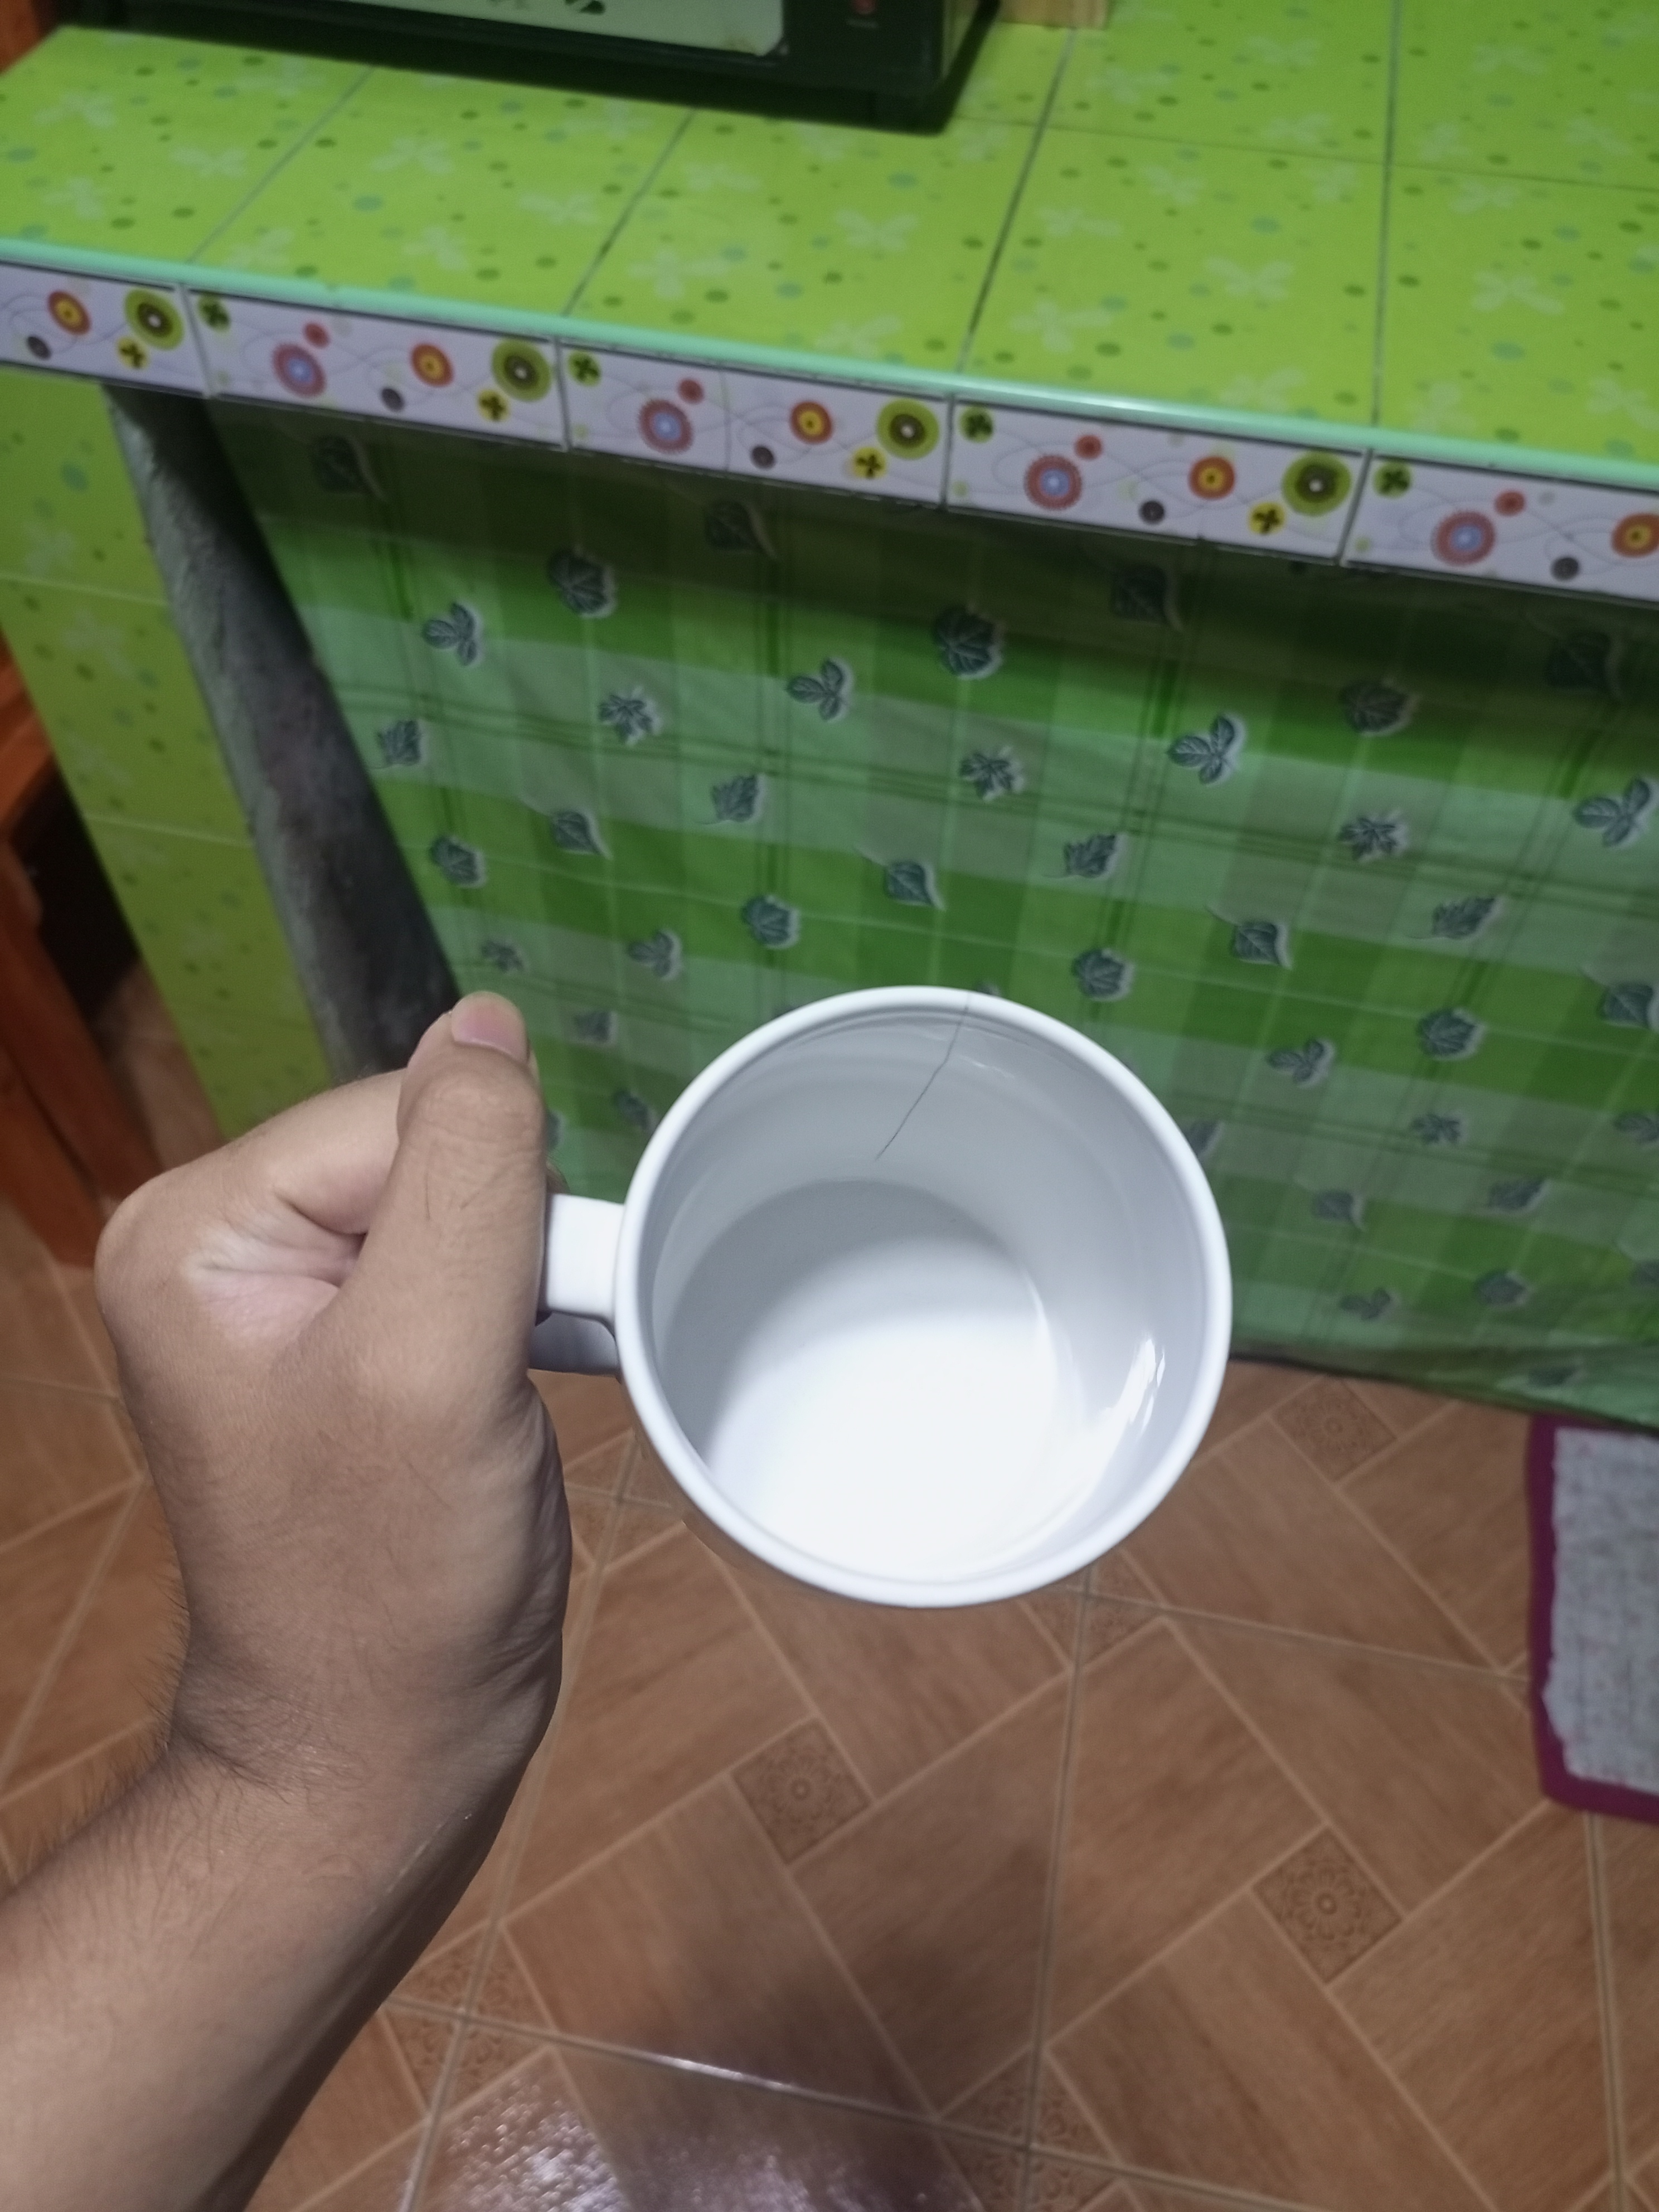mug: (540, 995, 1229, 1615)
